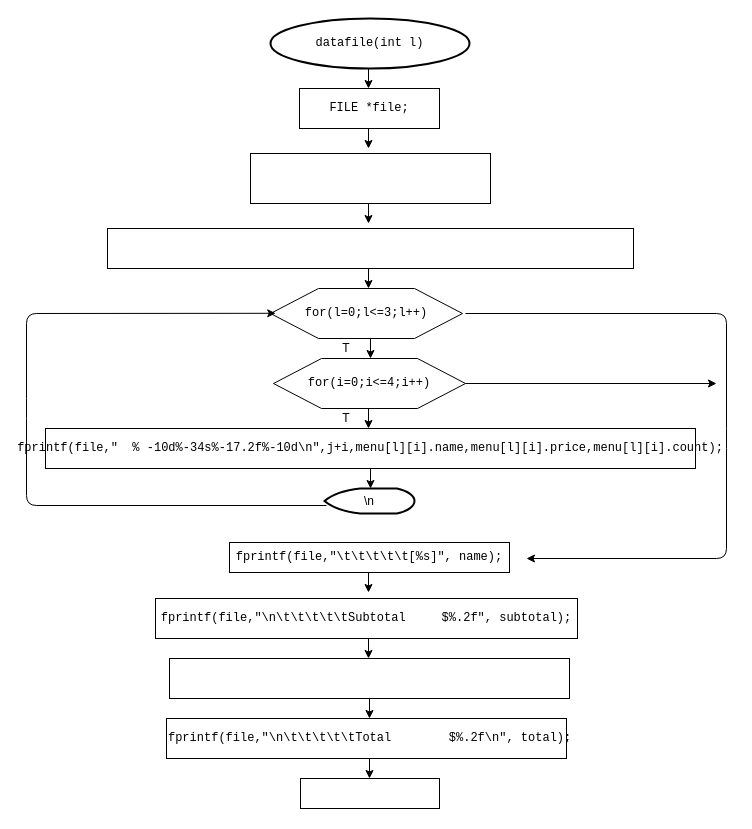
The diagram is 752 pixels wide and 829 high, and some of its shapes have lost their labels. Each missing label, with the box of its shape:
fclose(file);: (300, 778, 440, 808)
file = fopen("bill.txt", "a");: (250, 152, 490, 204)
fprintf(file," %-10s%-34s%-14s%-10s\n","NUM", "NAME", "PRICE", "QUANTITY");: (106, 228, 634, 268)
fprintf(file,"\n\t\t\t\t\tTax $%.2f\n", tax);: (168, 658, 570, 698)
